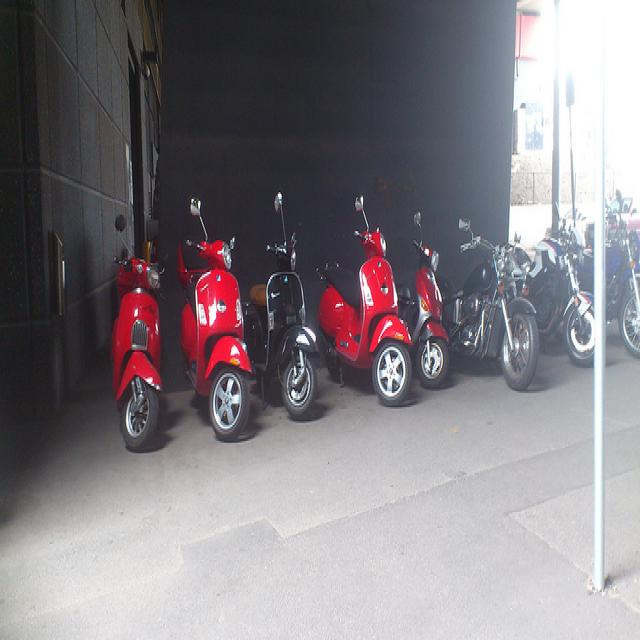motor: (312, 196, 415, 411), (175, 198, 252, 444), (437, 222, 540, 392), (245, 194, 318, 419), (108, 216, 163, 446), (527, 199, 595, 368), (396, 210, 450, 390), (606, 211, 639, 359), (513, 245, 532, 295)
